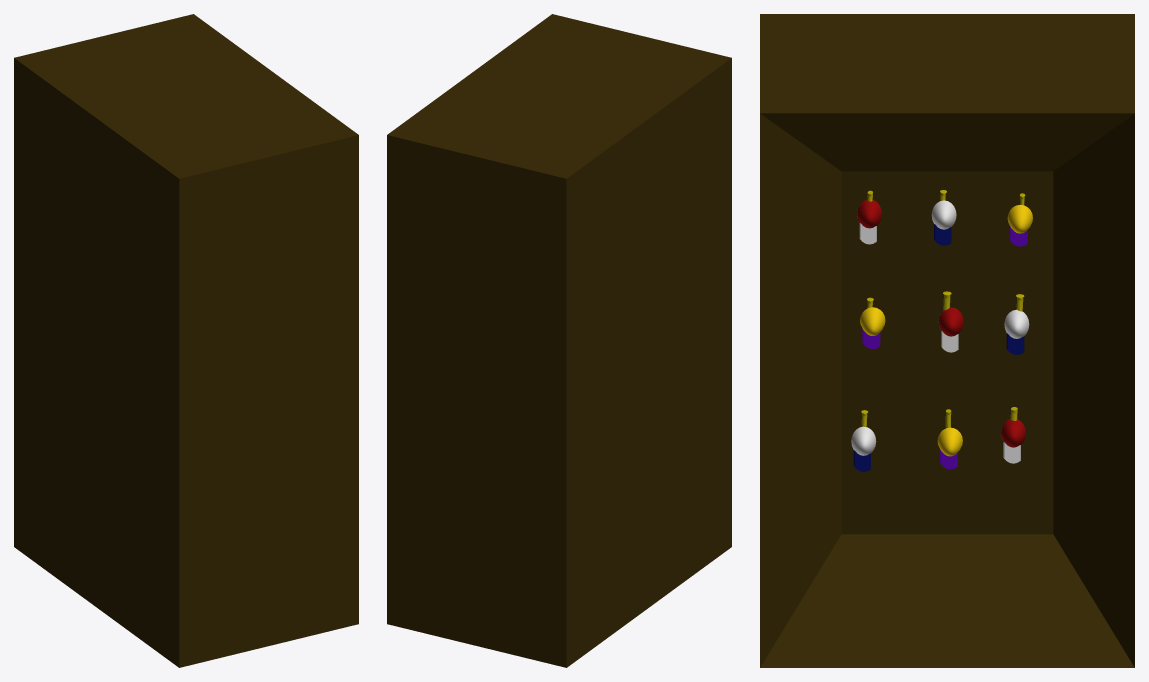
File: HatDisplay3.fbx
3 views of the same model, side by side, from view 1: azimuth 30°, elevation 25°; view 2: azimuth 150°, elevation 25°; view 3: azimuth 270°, elevation 25° (orthographic). The views are drawn at different scales.
Visible parts, largest first — view 1: hatdisplay3mb:polySurface173; view 2: hatdisplay3mb:polySurface173; view 3: hatdisplay3mb:polySurface173.
Part boxes in pixels (x1=…): hatdisplay3mb:polySurface173: x1=14, y1=14, x2=358, y2=667; hatdisplay3mb:polySurface173: x1=387, y1=14, x2=731, y2=667; hatdisplay3mb:polySurface173: x1=760, y1=14, x2=1134, y2=667.
Size of the model in its own units: 1.72 by 4.48 by 2.75.
